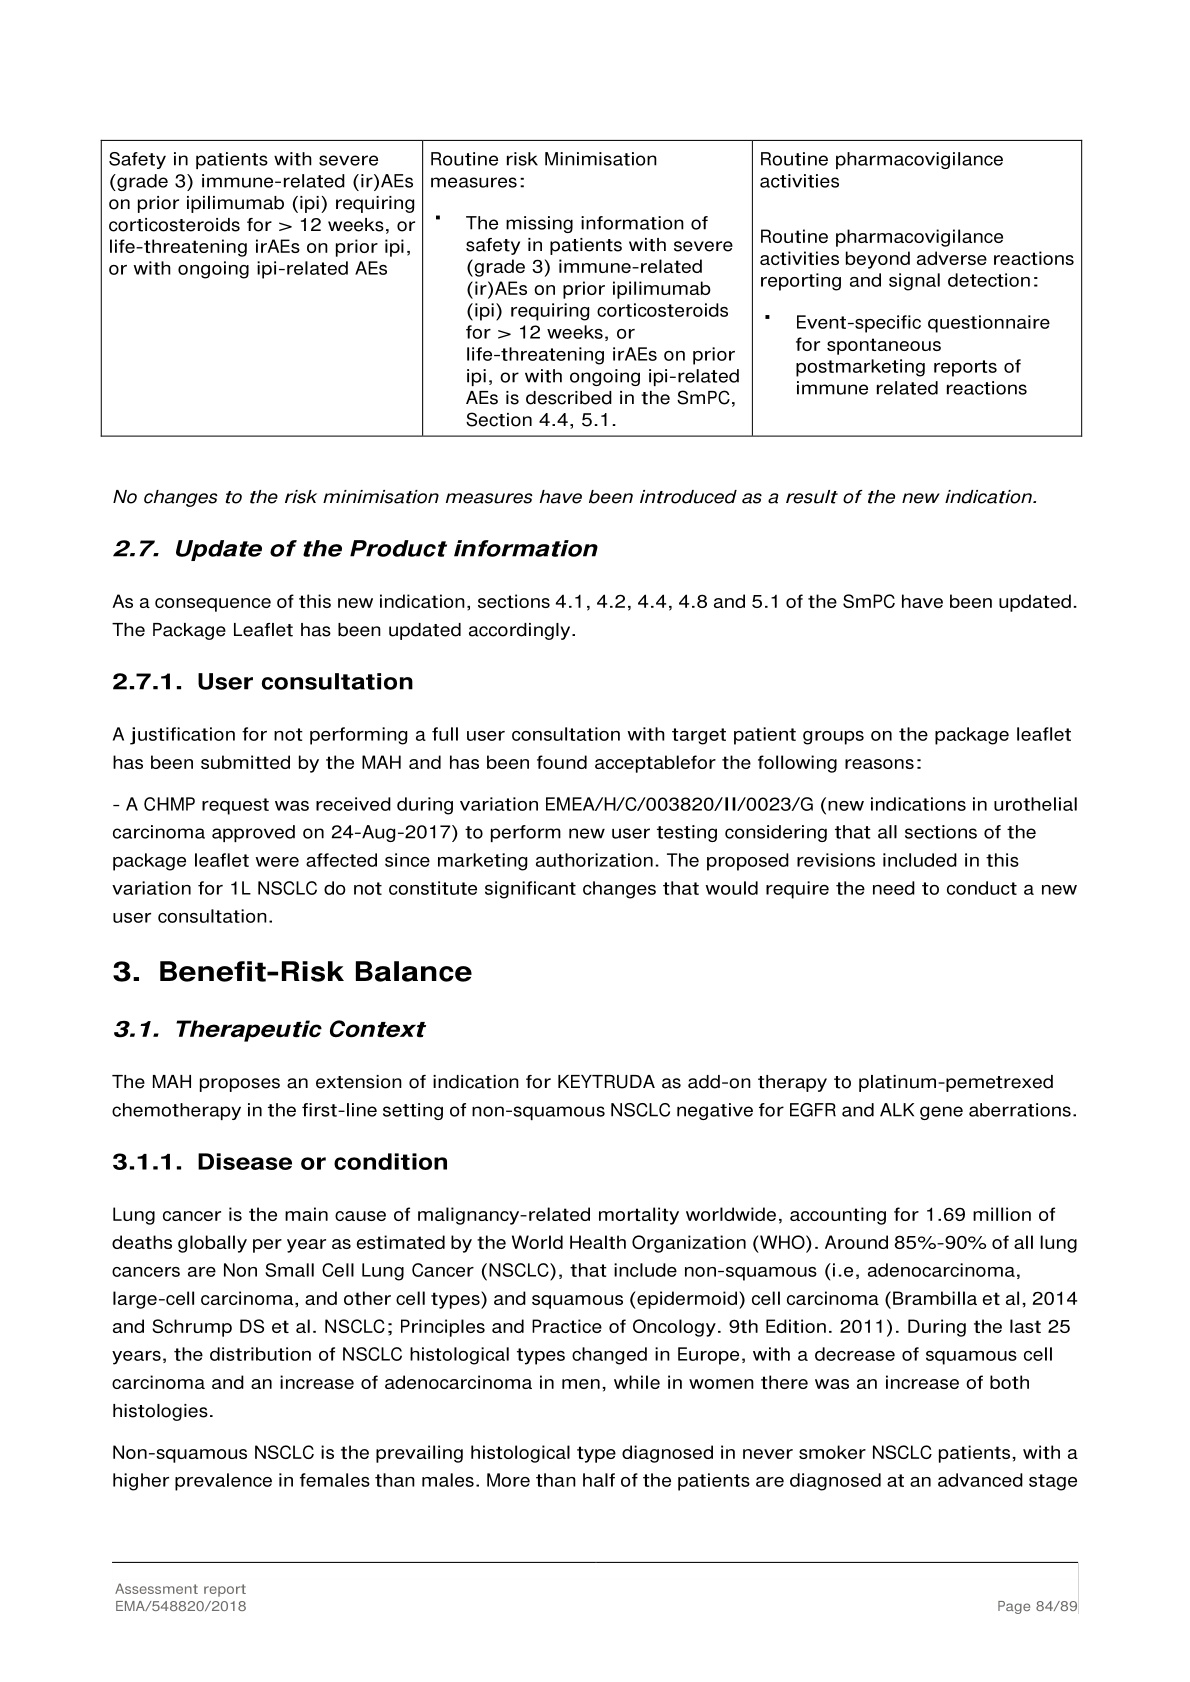full_lined: (100, 138, 1083, 438)
